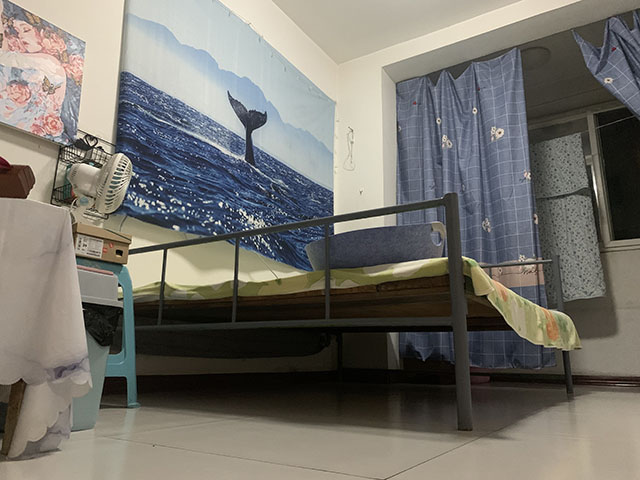bed: (119, 192, 584, 431)
curtain: (397, 50, 558, 375)
trashcan: (70, 264, 125, 433)
